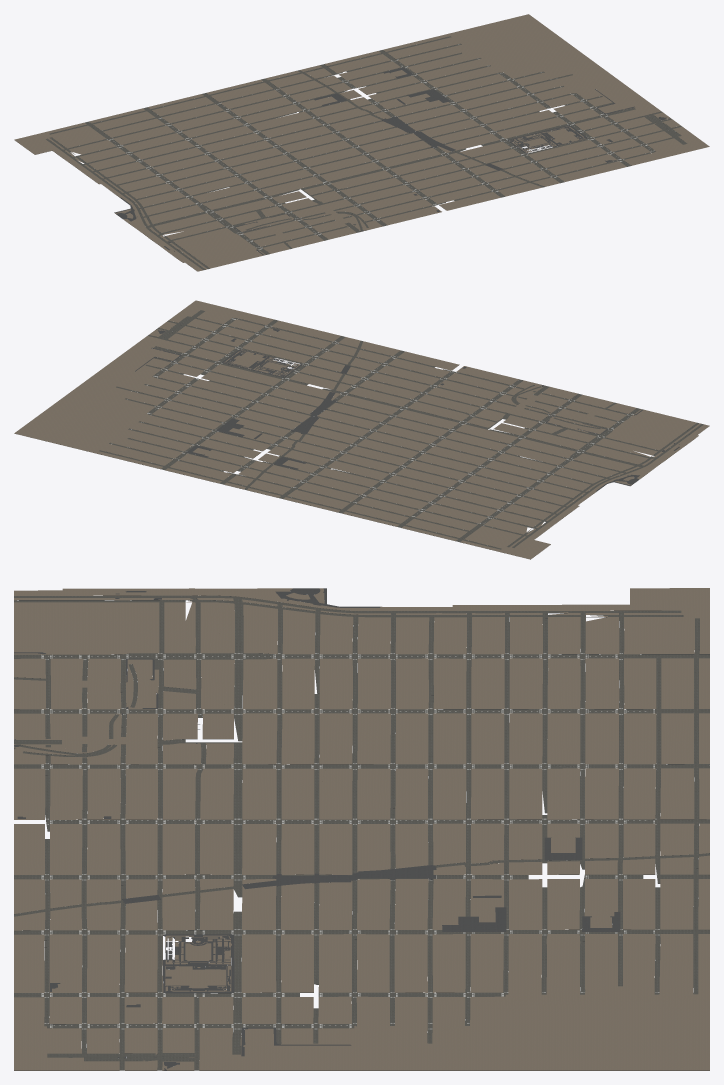
The model's file is terrain.glb.
3 renders of one model, top to bottom at view 1: azimuth 30°, elevation 25°; view 2: azimuth 150°, elevation 25°; view 3: azimuth 270°, elevation 25°, orthographic. The views are drawn at different scales.
Visible parts, largest first — view 1: TER_TS_Sidewalks, TER_TS_Roads, TER_TS_Plazas, TER_TS_Markings; view 2: TER_TS_Sidewalks, TER_TS_Roads, TER_TS_Plazas, TER_TS_Markings; view 3: TER_TS_Sidewalks, TER_TS_Roads, TER_TS_Plazas, TER_TS_Markings.
Part boxes in pixels (x1,y1,x2,y2): TER_TS_Sidewalks: [14, 14, 709, 271]; TER_TS_Roads: [46, 36, 687, 270]; TER_TS_Plazas: [114, 67, 670, 255]; TER_TS_Markings: [107, 44, 654, 249]; TER_TS_Sidewalks: [14, 300, 709, 559]; TER_TS_Roads: [99, 310, 703, 549]; TER_TS_Plazas: [135, 323, 679, 491]; TER_TS_Markings: [111, 318, 633, 525]; TER_TS_Sidewalks: [14, 588, 709, 1070]; TER_TS_Roads: [14, 595, 709, 1070]; TER_TS_Plazas: [14, 588, 620, 1070]; TER_TS_Markings: [41, 653, 659, 1029].
Size of the model in its own units: 2395 by 0.46 by 1460.
5 materials, 4 textured.
